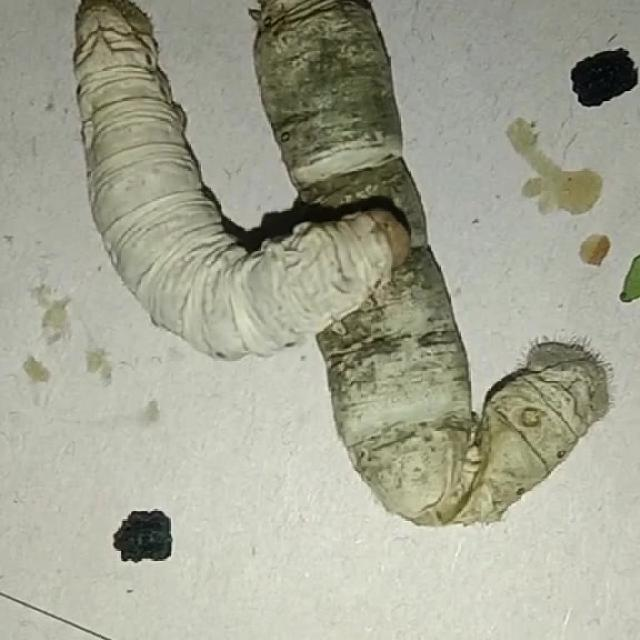Grasserie: (252, 9, 610, 531)
